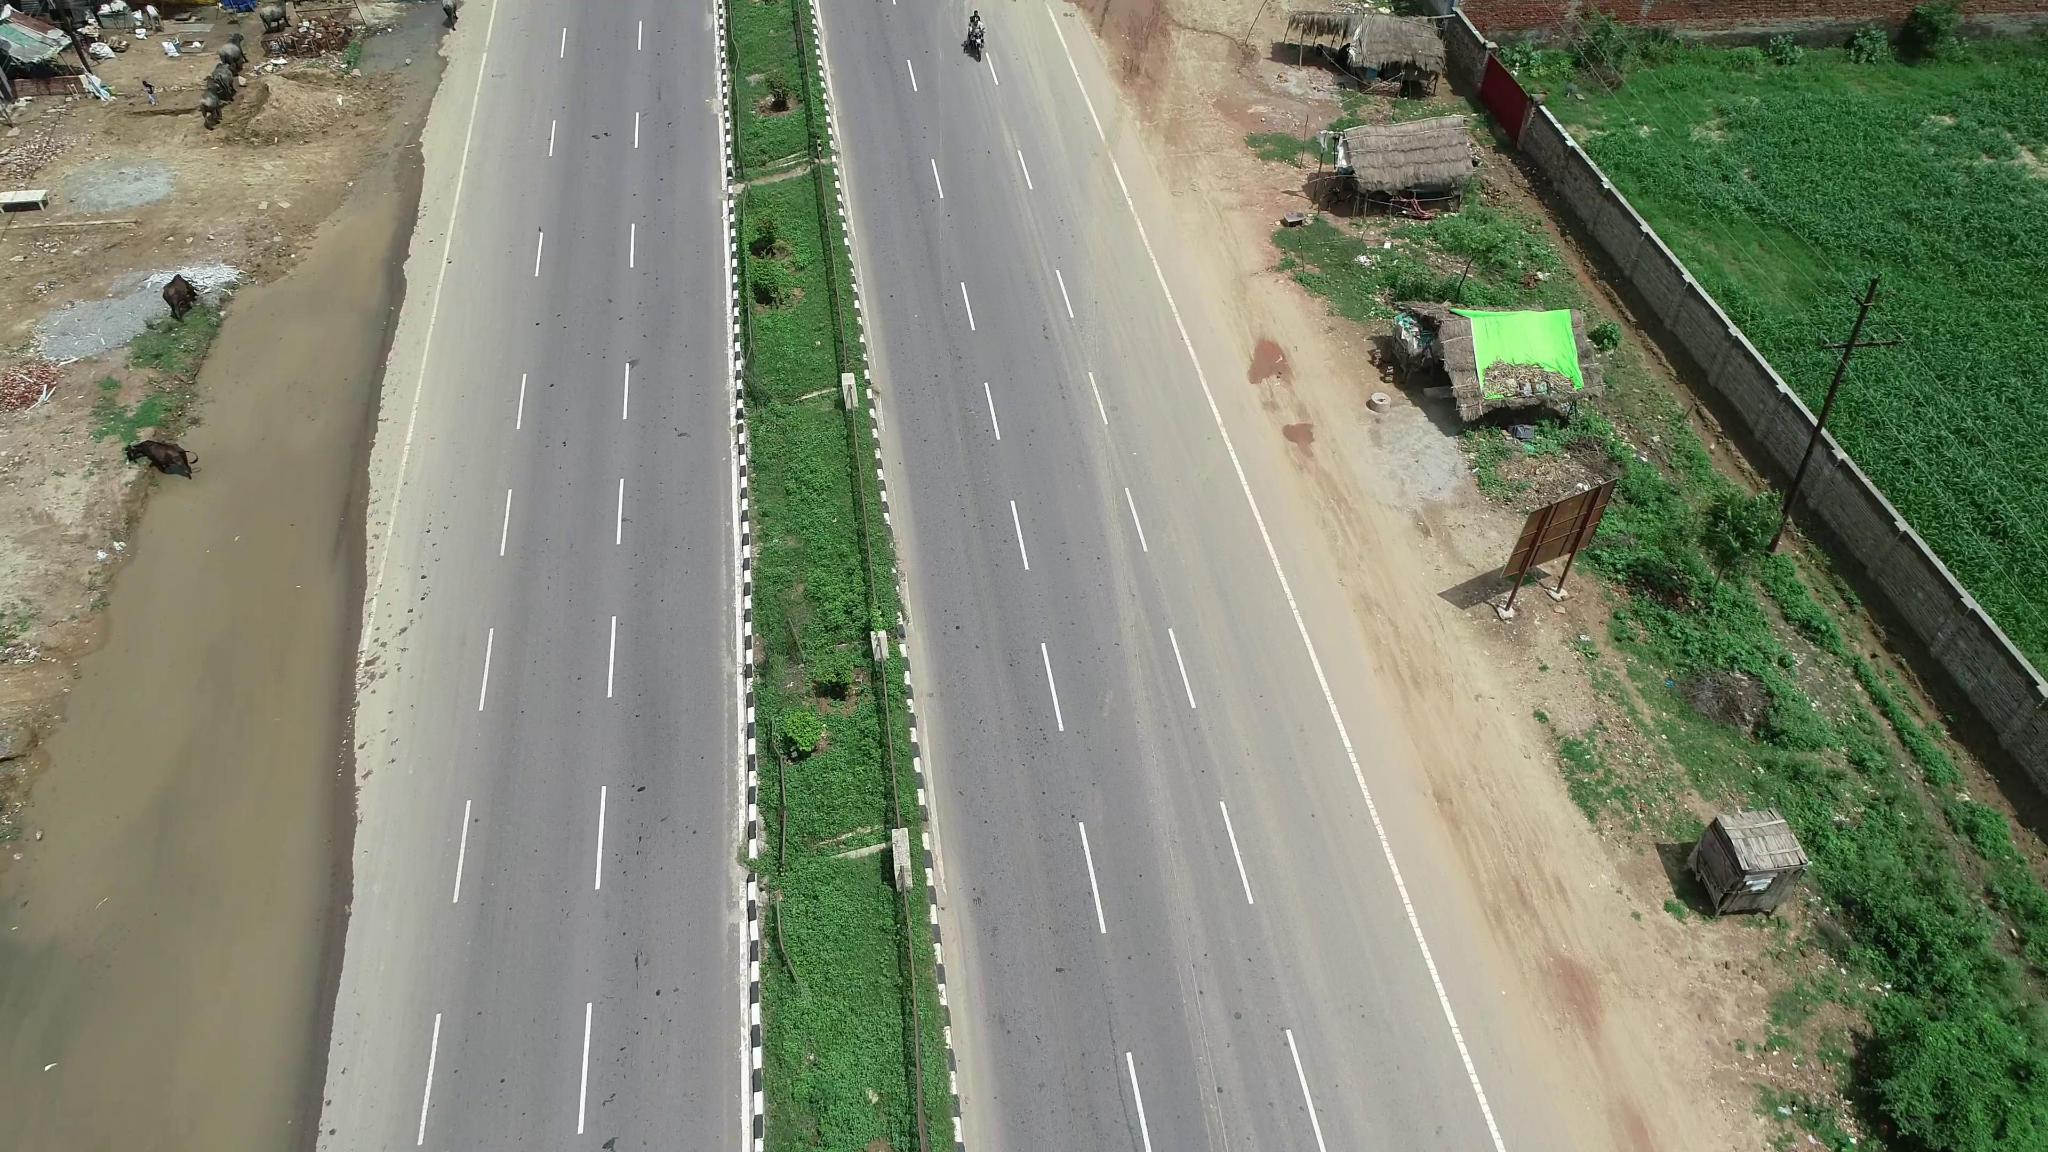Waterlogging: (15, 520, 361, 1089), (196, 172, 430, 506)
